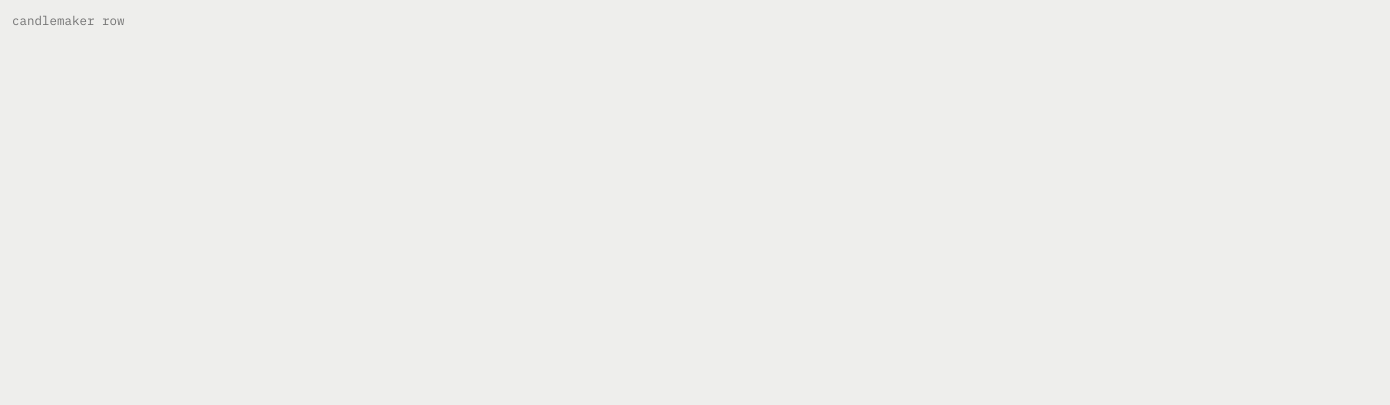
previews an autocomplete result and confirms its coordinates only on Explore here
The image size is (1390, 405).
Later steps or results of the test are not shown.
Click the dropdown.
click(695, 20)  # box [12,12,1378,28]
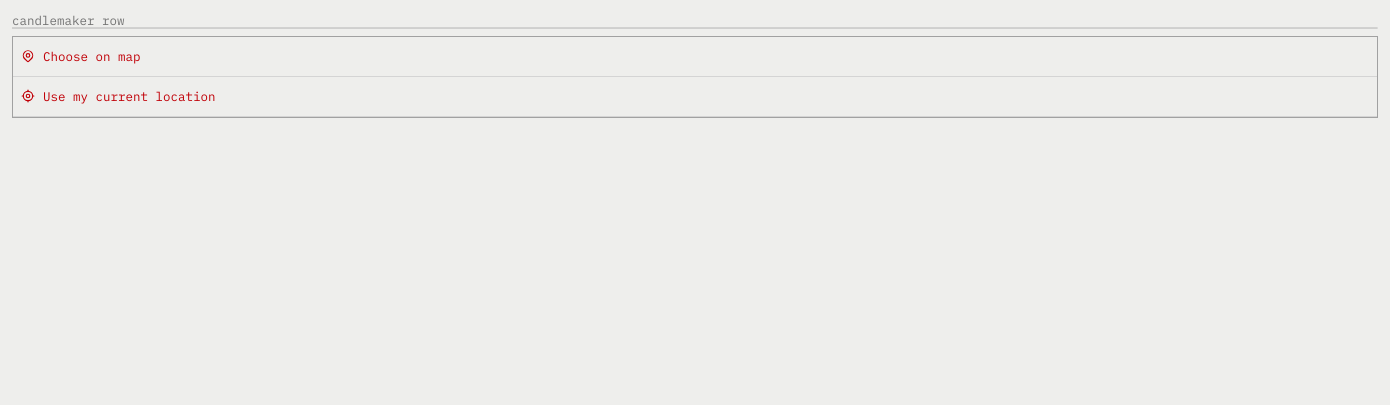
Click the button "Choose on map".
click(92, 56)  # box [13,37,1377,77]
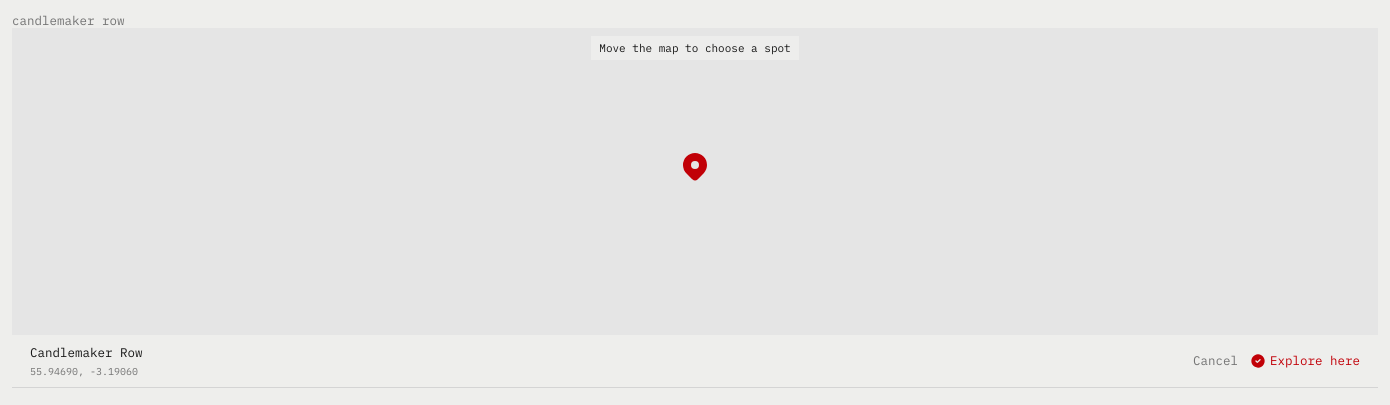
Type "castle" into the dropdown named "Search for a place".
click(695, 20); type("castle")  # box [12,12,1378,28]
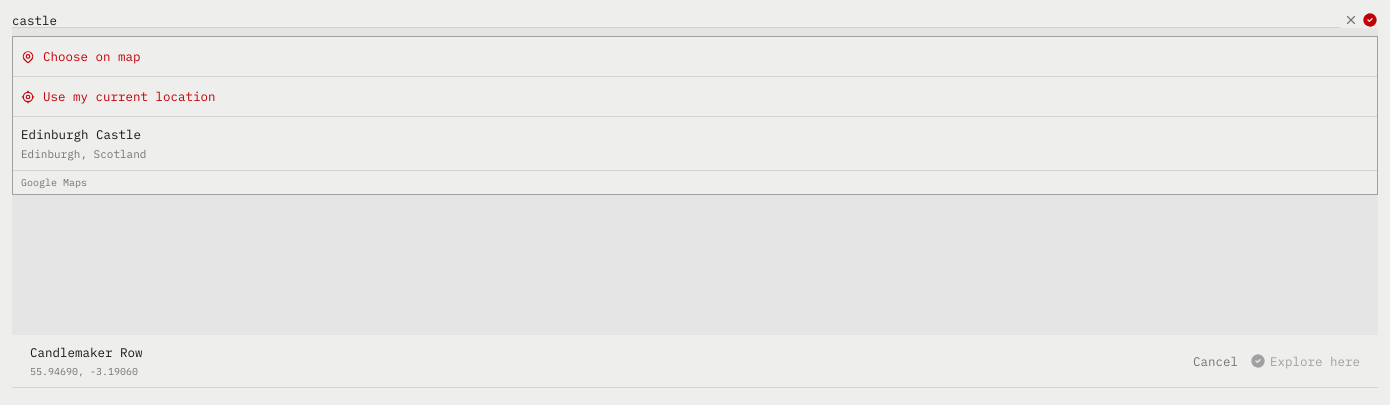
Result: the option "Edinburgh Castle Edinburgh, Scotland" is shown at [13,117,1377,171]
